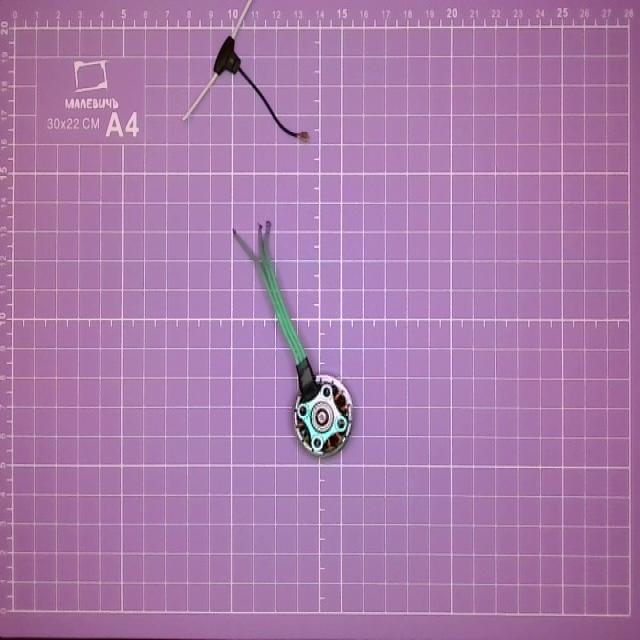antenna: (180, 0, 313, 144)
motor: (230, 214, 356, 459)
